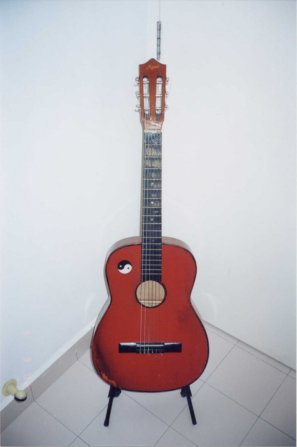guitar: (90, 58, 210, 395)
